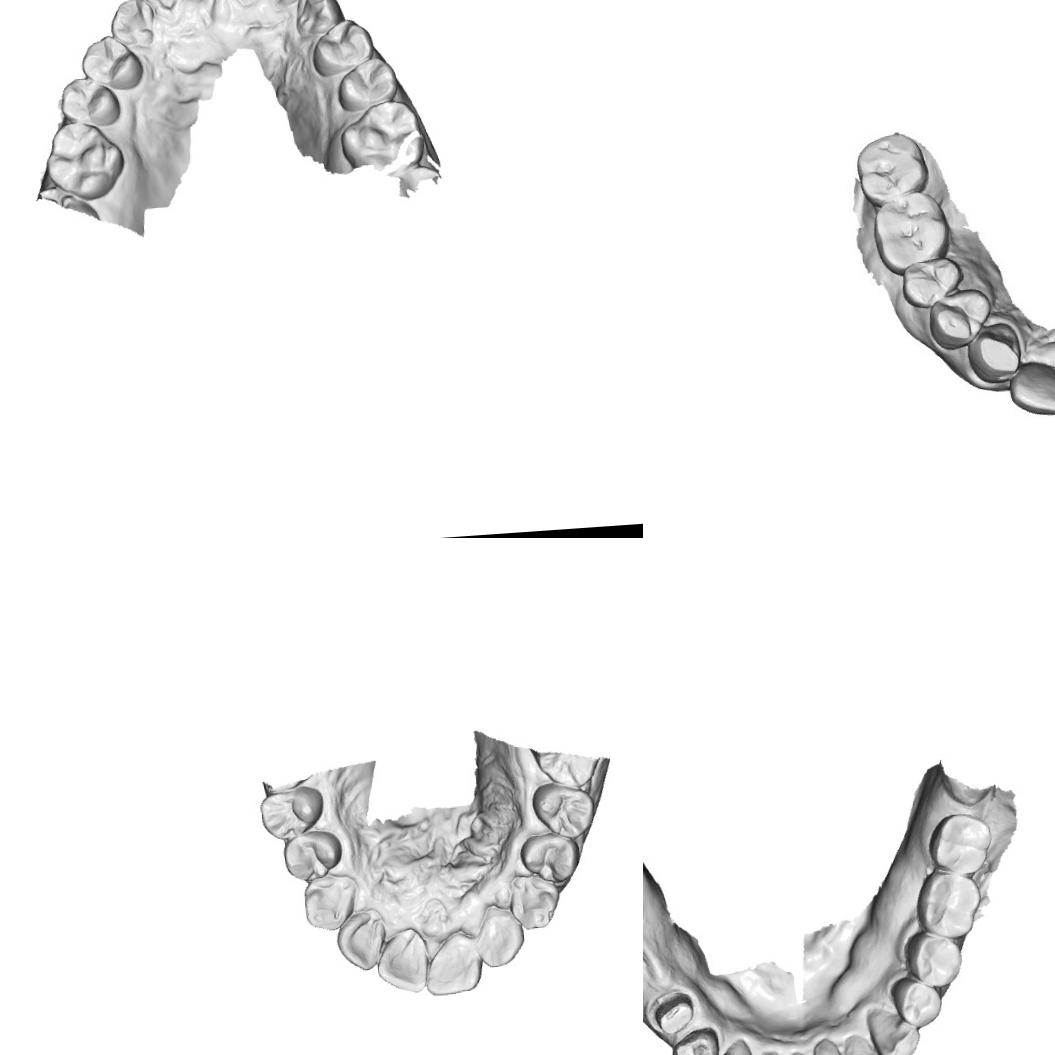canine: (963, 324, 1027, 386), (300, 872, 358, 932), (506, 870, 562, 931), (862, 1003, 924, 1055), (290, 0, 347, 41), (107, 0, 155, 48), (707, 1035, 759, 1055)
crown: (645, 988, 698, 1036)
incisor: (422, 927, 484, 997), (374, 926, 430, 997), (473, 901, 527, 969), (333, 907, 388, 973), (1004, 356, 1055, 417), (838, 1029, 893, 1055), (809, 1034, 859, 1055), (137, 0, 187, 14)
molar: (337, 97, 427, 180), (42, 118, 126, 204), (870, 190, 948, 277), (852, 128, 930, 206), (912, 868, 985, 943), (924, 809, 995, 880)
premolar: (308, 15, 376, 79), (529, 778, 596, 842), (927, 286, 993, 350), (900, 927, 966, 991), (78, 31, 144, 94), (257, 784, 326, 842), (898, 252, 964, 312), (334, 54, 400, 113), (516, 828, 582, 884), (887, 972, 947, 1032), (57, 74, 121, 129), (280, 828, 344, 882), (667, 1023, 724, 1055)
